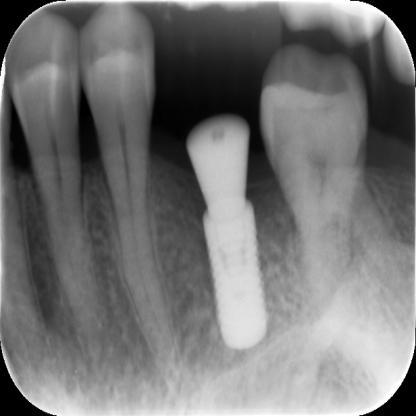ITI: (200, 198, 272, 348)
